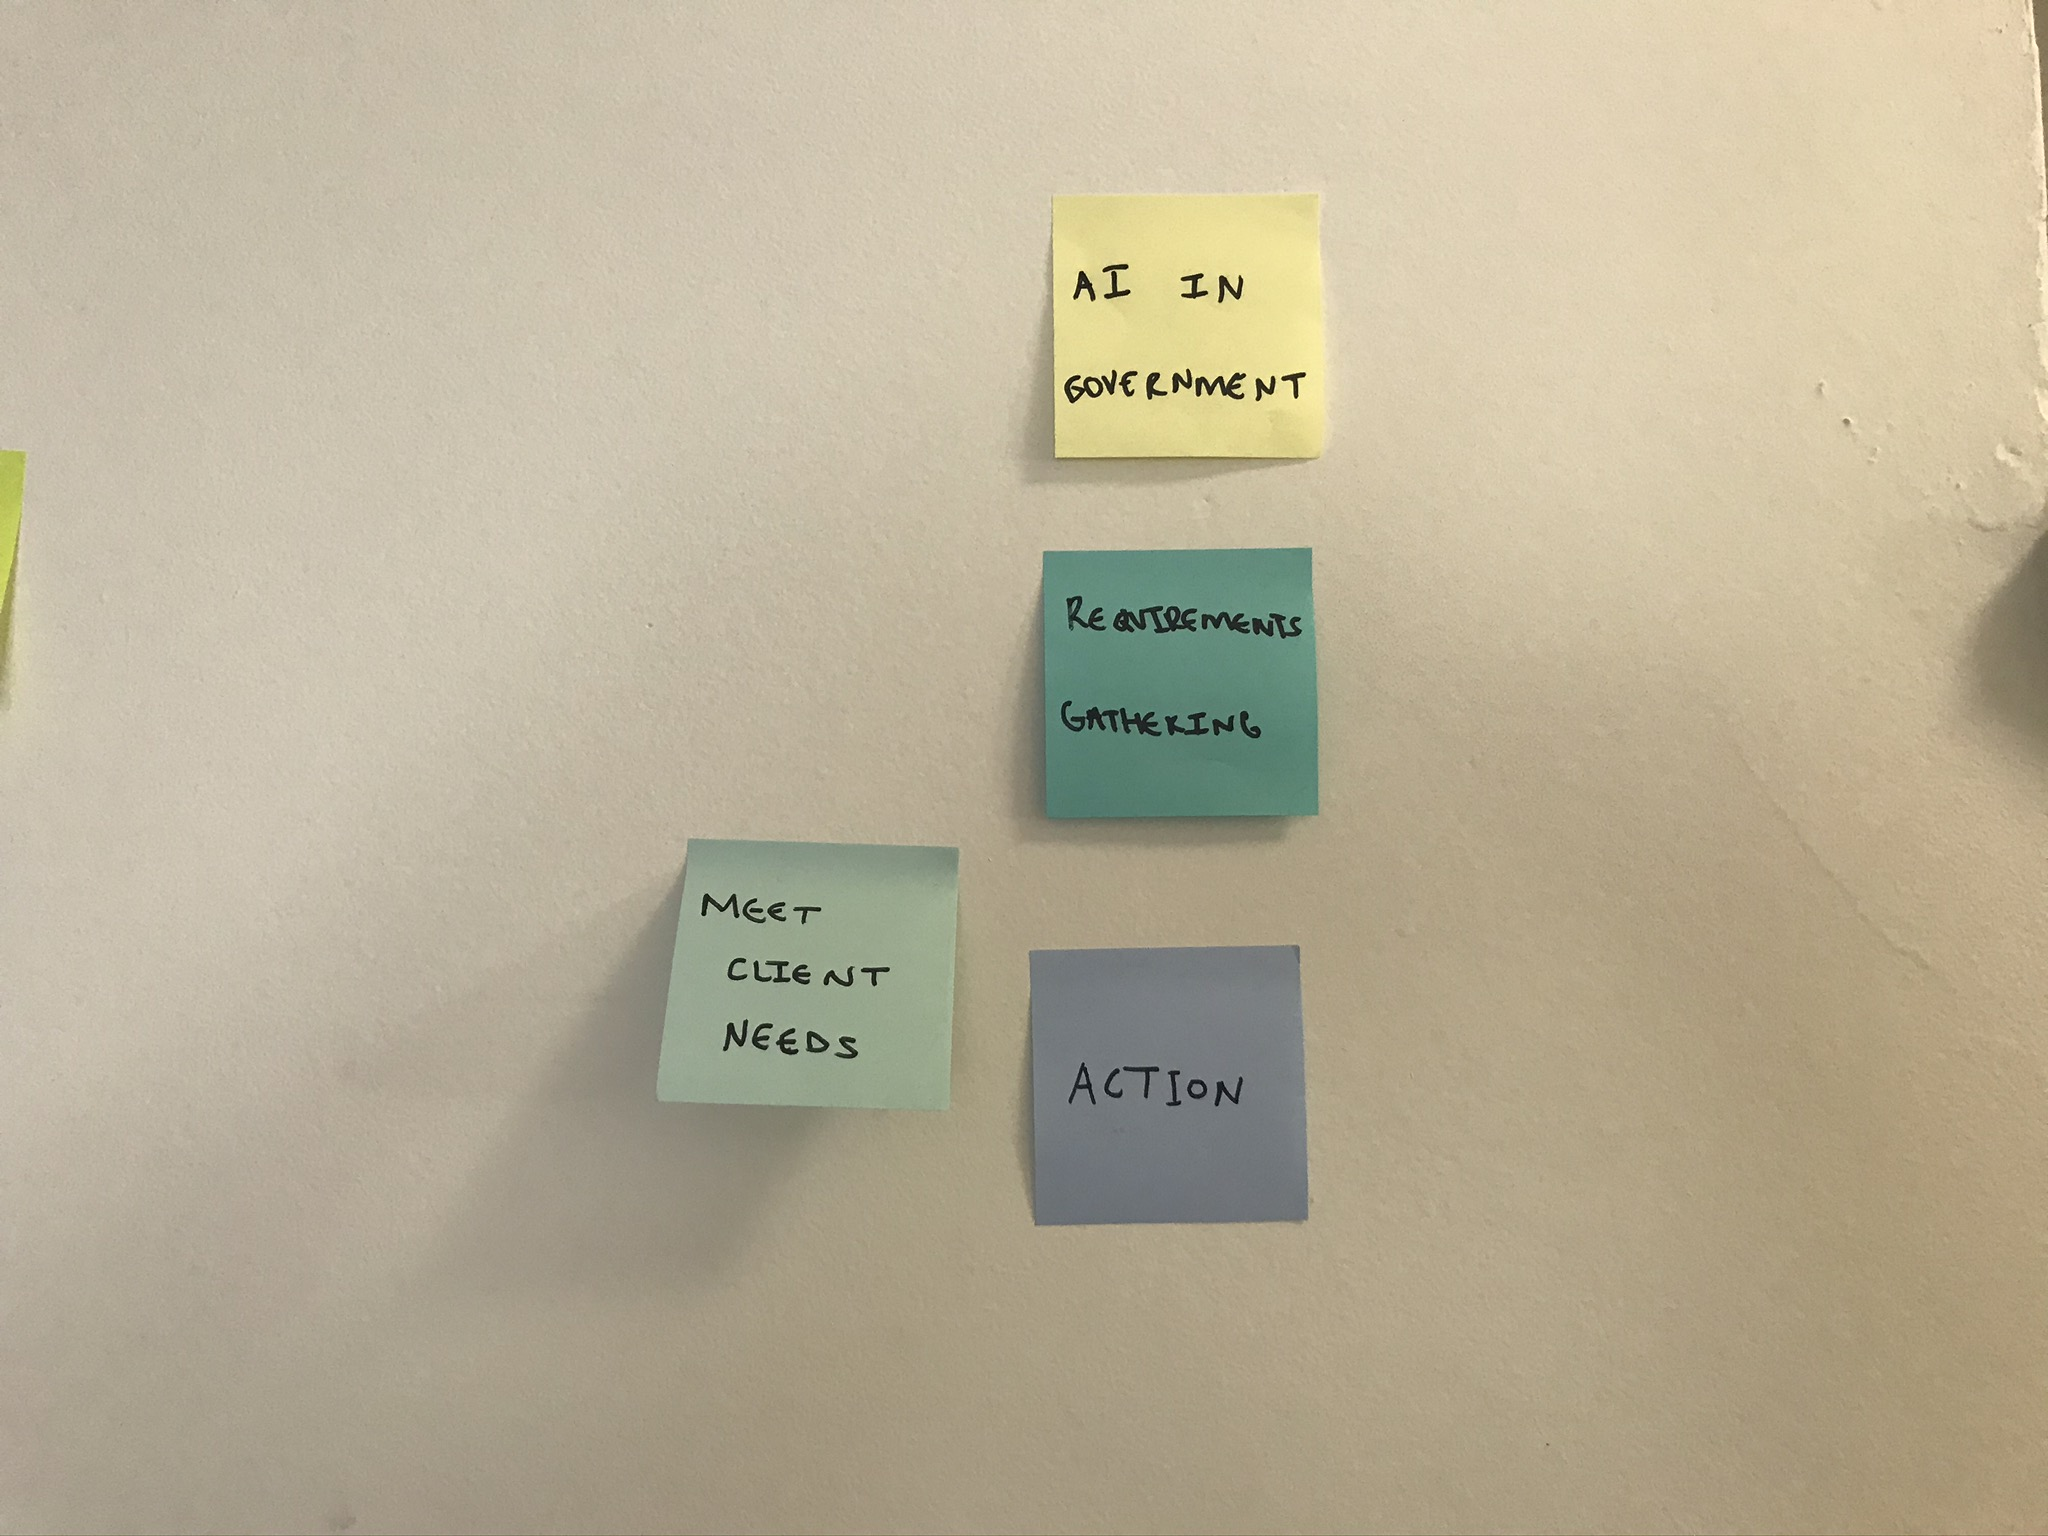sticky: (653, 837, 958, 1107), (1030, 942, 1306, 1229), (1040, 549, 1317, 816), (1050, 190, 1321, 461)
